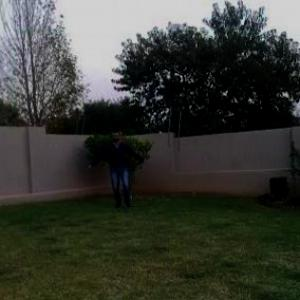land: (78, 120, 148, 214)
